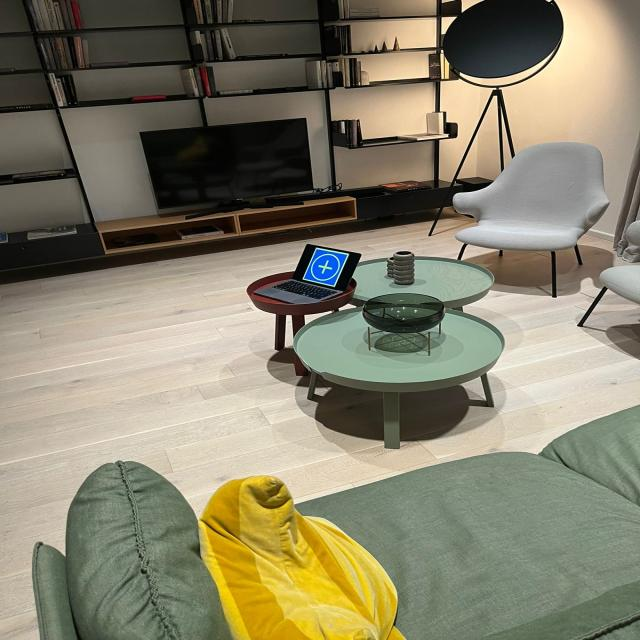Marker: (302, 247, 349, 287)
